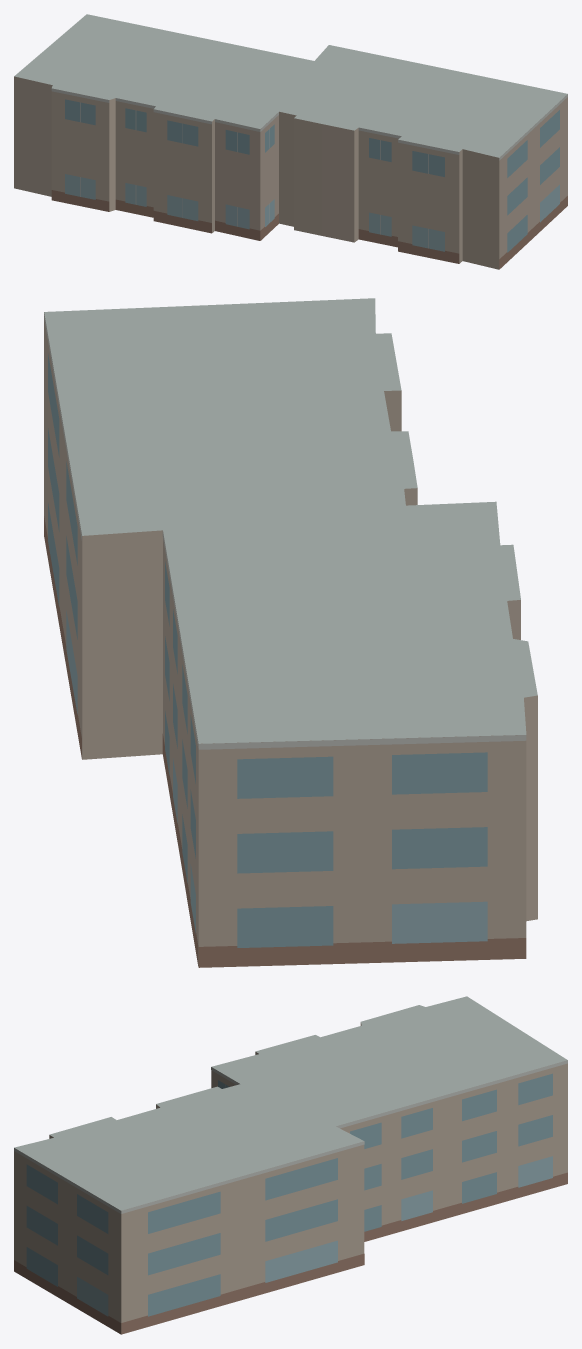
The model's file is survey-upis-32470399.glb.
The picture shows the model from 3 angles, top to bottom: view 1: azimuth 30°, elevation 25°; view 2: azimuth 150°, elevation 25°; view 3: azimuth 270°, elevation 25°; orthographic projection. The views are drawn at different scales.
Parts seen in each view (by area): view 1: survey-upis-32470399.tmp; view 2: survey-upis-32470399.tmp; view 3: survey-upis-32470399.tmp.
Part boxes in pixels (box(x1,y1,x2,y2)): survey-upis-32470399.tmp: box(14, 14, 567, 269); survey-upis-32470399.tmp: box(44, 298, 537, 967); survey-upis-32470399.tmp: box(14, 996, 567, 1334).
Bounding box in the file's own units: 34.01 × 9.15 × 37.1.
